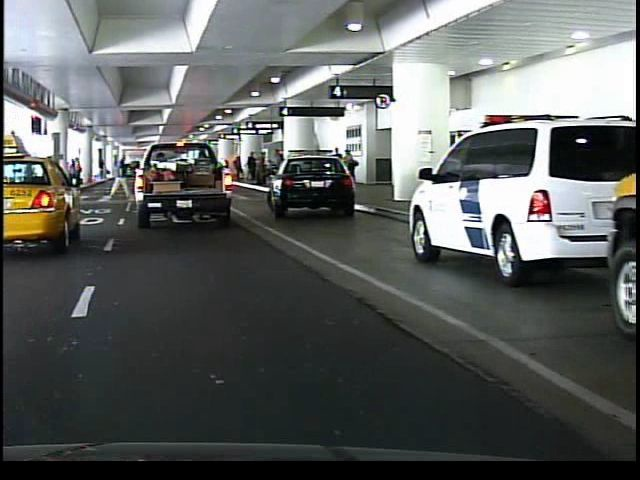person: (104, 152, 132, 202)
